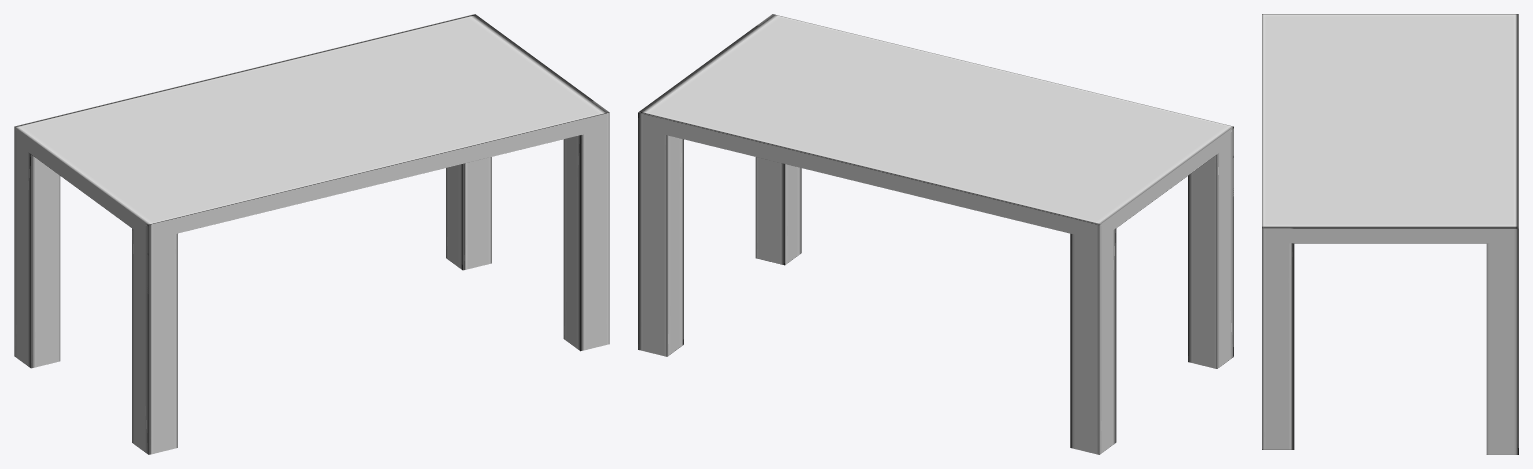
The model's file is table.dae.
3 renders of one model, left to right at view 1: azimuth 30°, elevation 25°; view 2: azimuth 150°, elevation 25°; view 3: azimuth 270°, elevation 25°, orthographic. The views are drawn at different scales.
Visible parts, largest first — view 1: Cube; view 2: Cube; view 3: Cube.
Part boxes in pixels (x1,y1,x2,y2): Cube: (14,14,609,454); Cube: (638,14,1233,454); Cube: (1262,14,1518,454).
Bounding box in the file's own units: 6.31 × 3.19 × 3.1.
